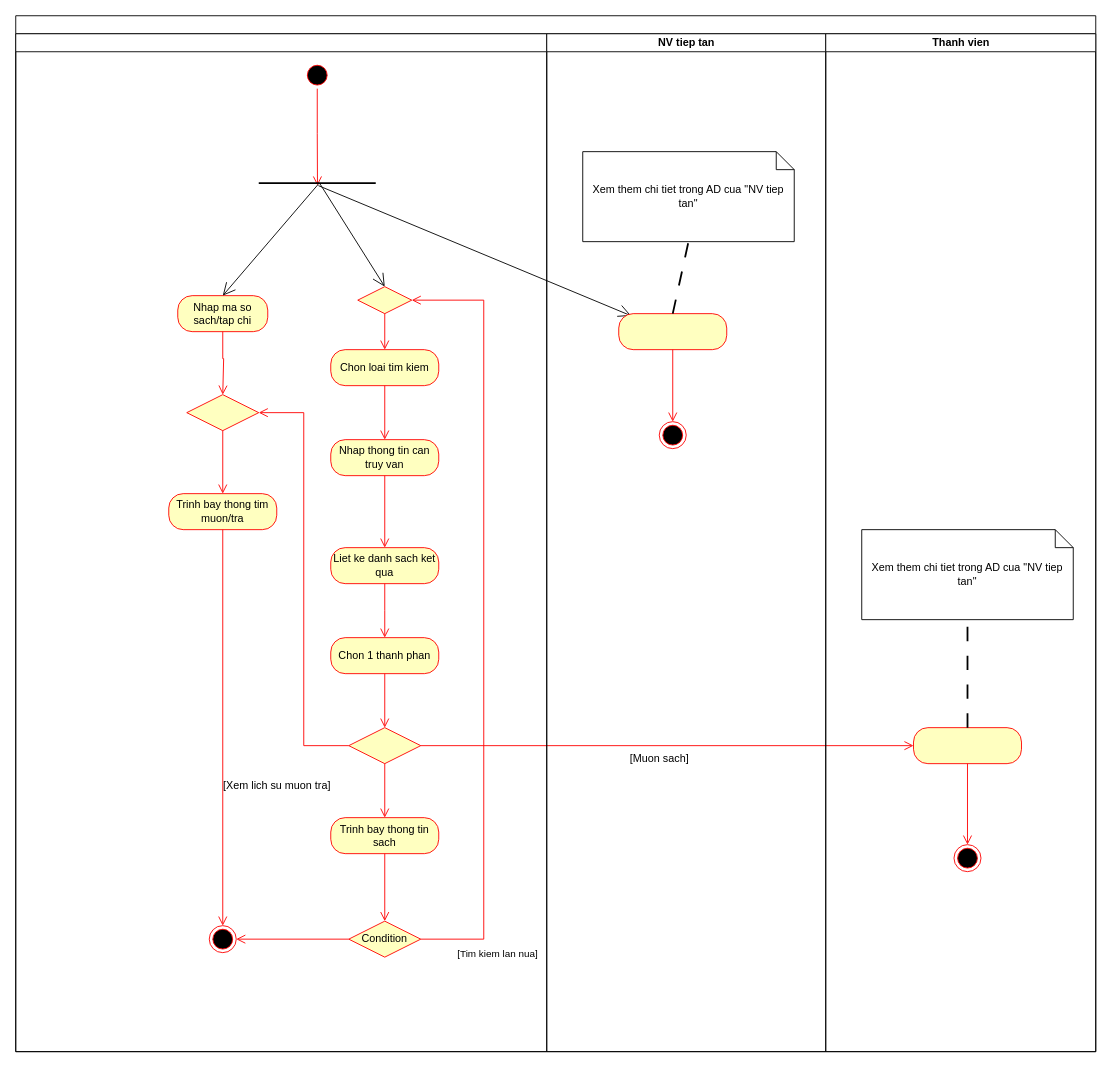
This 1112x1067 diagram has some shape labels left out. The shapes that lost their labels are listed below. From the top down, each one's centre as x and y in pixels, then its label:
At [672,331]: "Dang ky thanh vien".
At [281,542]: "Doc gia".
At [967,745]: "Activity".
